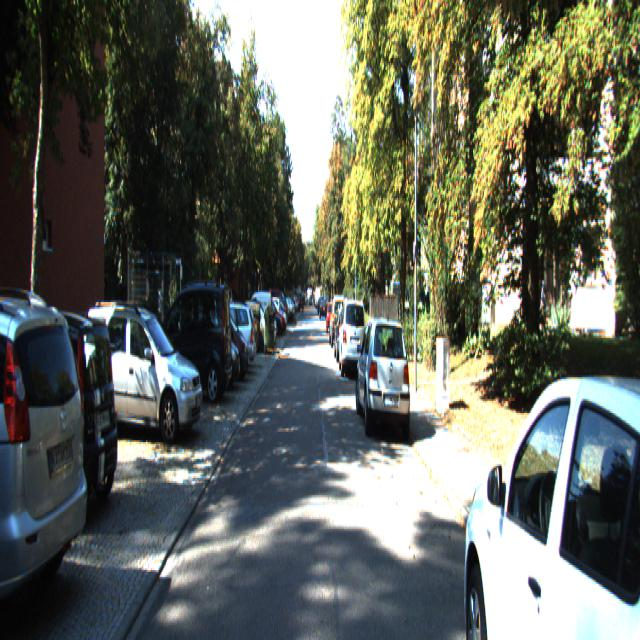Car: (460, 331, 640, 638), (0, 273, 94, 639), (0, 310, 123, 544), (79, 294, 205, 441), (146, 282, 232, 411), (356, 314, 411, 445), (190, 300, 256, 379), (338, 296, 368, 380), (334, 306, 358, 361), (330, 299, 347, 350)
